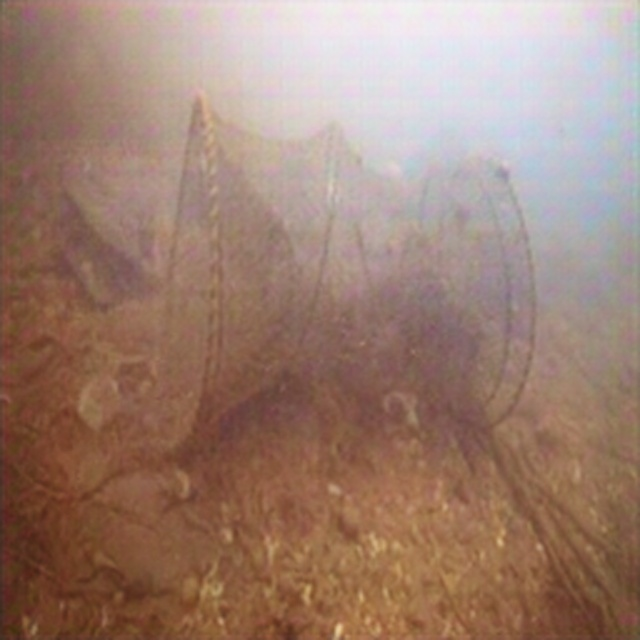mine: (158, 90, 536, 463)
